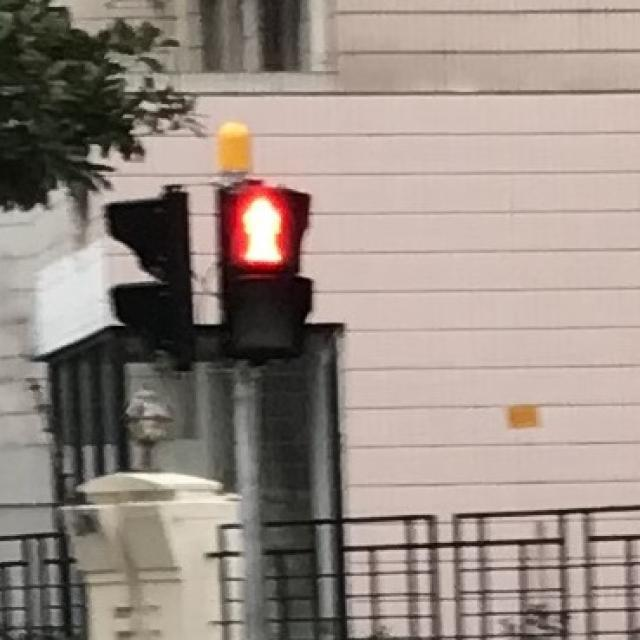red_light: (220, 184, 302, 269)
